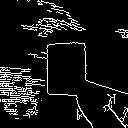cube: (39, 37, 91, 100)
